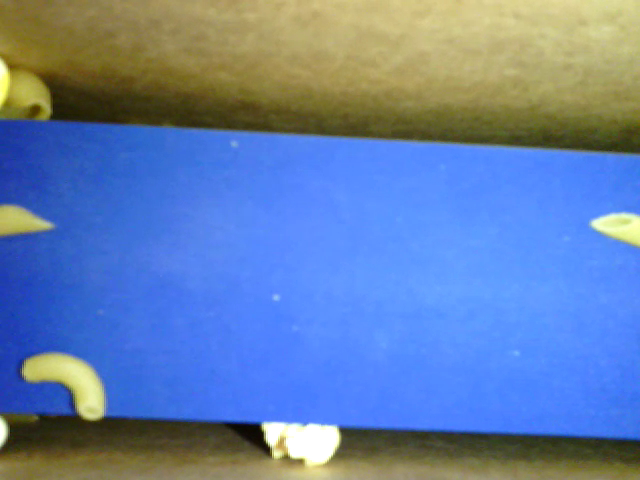elbow: (21, 351, 110, 421)
penne: (1, 202, 59, 236), (587, 204, 637, 243)
shell: (4, 63, 56, 125)
